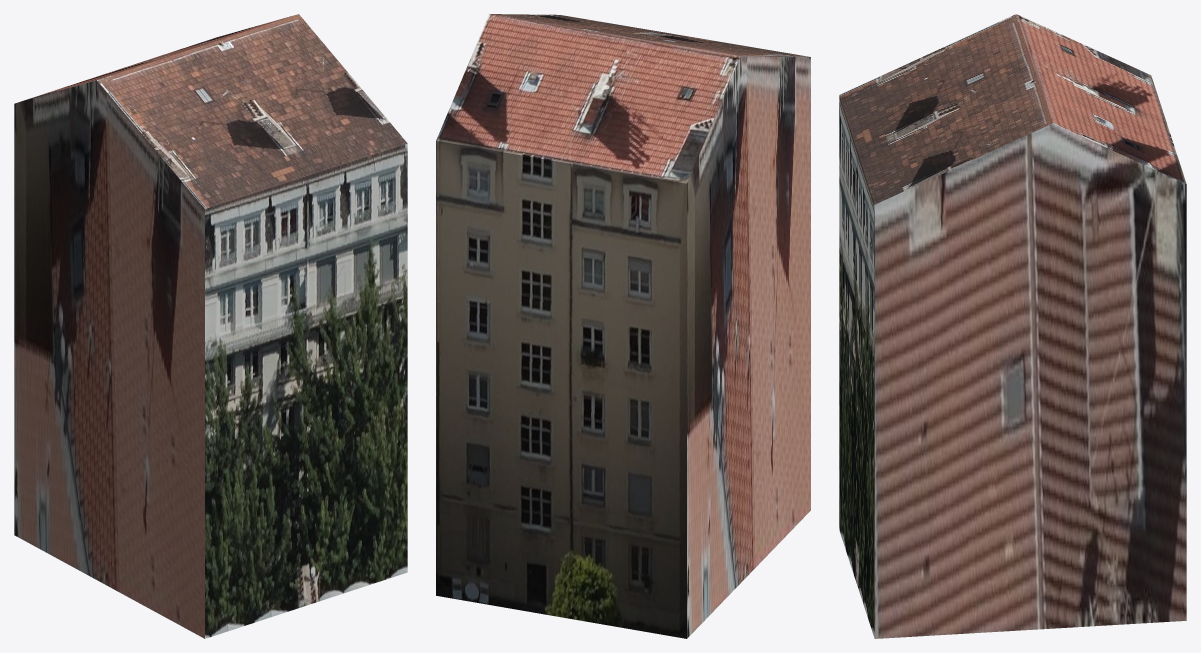
3 views of the same model, side by side, from view 1: azimuth 30°, elevation 25°; view 2: azimuth 150°, elevation 25°; view 3: azimuth 270°, elevation 25° (orthographic). The views are drawn at different scales.
Parts seen in each view (by area): view 1: Z_UP; view 2: Z_UP; view 3: Z_UP.
Boxes of the visible parts, x1=… form: Z_UP: x1=14, y1=14, x2=407, y2=638; Z_UP: x1=436, y1=14, x2=810, y2=638; Z_UP: x1=839, y1=14, x2=1186, y2=638.
Bounding box in the file's own units: 14.75 × 27.41 × 17.06.
Materials: 2 (1 with a texture image).
